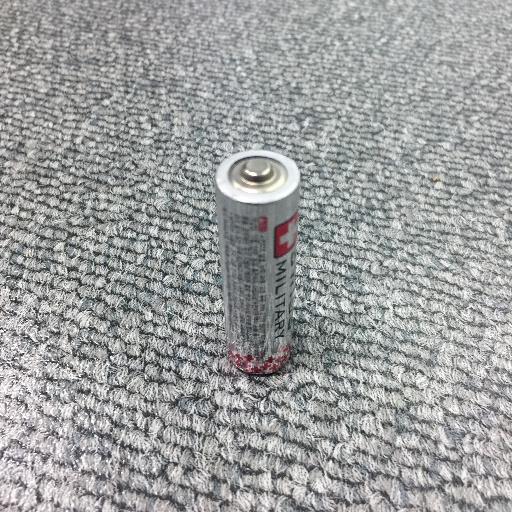Battery_0: (208, 145, 310, 377)
